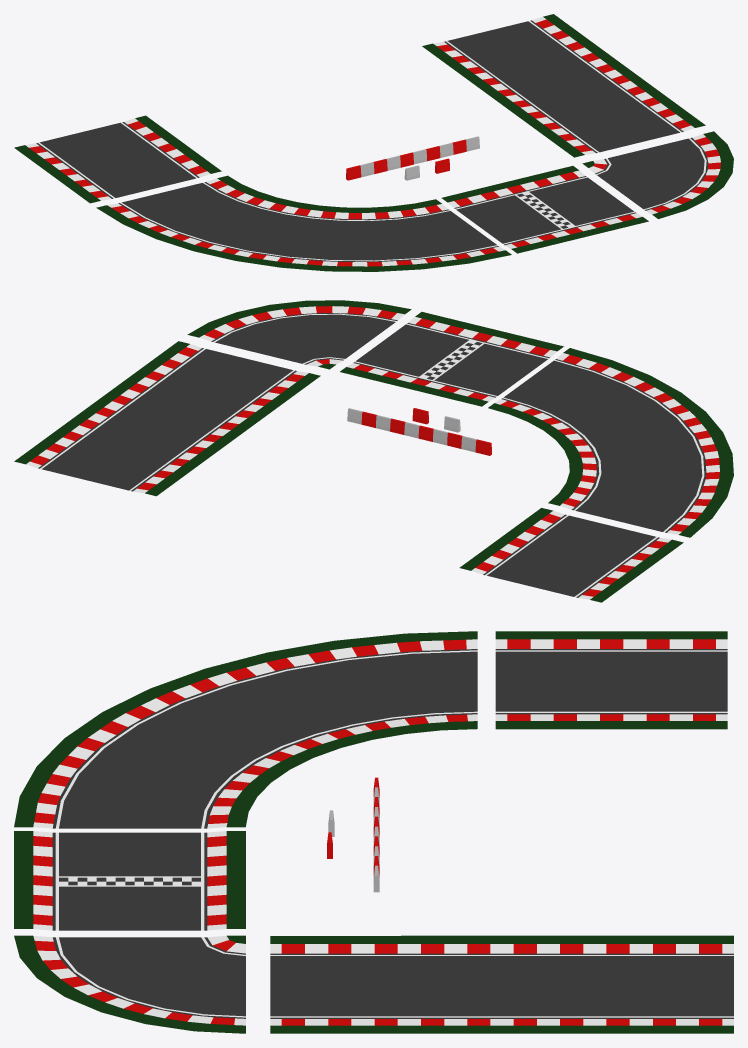
File: track.gltf
3 views of the same model, one above another, from view 1: azimuth 30°, elevation 25°; view 2: azimuth 150°, elevation 25°; view 3: azimuth 270°, elevation 25° (orthographic). The views are drawn at different scales.
Parts seen in each view (by area): view 1: Track_Corner_90d_type_01_30x30m_free_4, Track_line_type_01_30m_free_6, Track_line_type_01_start_finish_15m_free_7, Track_line_type_01_15m_free_5, Track_Corner_90d_type_01_15x15m_free_3, Track_Fence_line_type_01_15m_free_2; view 2: Track_Corner_90d_type_01_30x30m_free_4, Track_line_type_01_30m_free_6, Track_line_type_01_15m_free_5, Track_line_type_01_start_finish_15m_free_7, Track_Corner_90d_type_01_15x15m_free_3, Track_Fence_line_type_01_15m_free_2; view 3: Track_Corner_90d_type_01_30x30m_free_4, Track_line_type_01_30m_free_6, Track_line_type_01_15m_free_5, Track_line_type_01_start_finish_15m_free_7, Track_Corner_90d_type_01_15x15m_free_3, Track_Fence_line_type_01_15m_free_2.
Part boxes in pixels (x1,y1,x2,y2): Track_Corner_90d_type_01_30x30m_free_4: [96, 175, 511, 271]; Track_line_type_01_30m_free_6: [422, 14, 705, 157]; Track_line_type_01_start_finish_15m_free_7: [442, 166, 648, 253]; Track_line_type_01_15m_free_5: [14, 115, 221, 203]; Track_Corner_90d_type_01_15x15m_free_3: [582, 131, 733, 218]; Track_Fence_line_type_01_15m_free_2: [346, 136, 479, 180]; Track_Corner_90d_type_01_30x30m_free_4: [488, 348, 733, 537]; Track_line_type_01_30m_free_6: [14, 341, 320, 496]; Track_line_type_01_15m_free_5: [459, 508, 683, 602]; Track_line_type_01_start_finish_15m_free_7: [340, 312, 563, 406]; Track_Corner_90d_type_01_15x15m_free_3: [187, 300, 411, 369]; Track_Fence_line_type_01_15m_free_2: [347, 408, 491, 455]; Track_Corner_90d_type_01_30x30m_free_4: [14, 631, 477, 828]; Track_line_type_01_30m_free_6: [270, 935, 733, 1033]; Track_line_type_01_15m_free_5: [495, 631, 727, 729]; Track_line_type_01_start_finish_15m_free_7: [14, 831, 245, 930]; Track_Corner_90d_type_01_15x15m_free_3: [14, 935, 245, 1033]; Track_Fence_line_type_01_15m_free_2: [373, 777, 379, 892].
Size of the model in its own units: 61.63 by 1.2 by 46.57.
1 material, 1 textured.
